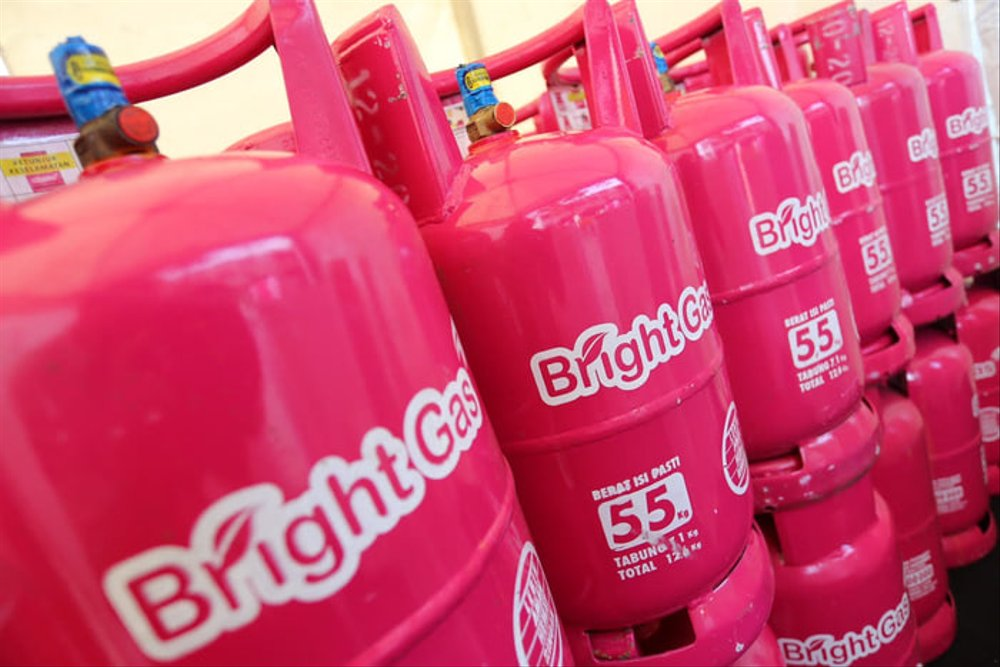bright_gas: (1, 2, 564, 667), (333, 7, 744, 625), (543, 21, 881, 498), (782, 11, 905, 338), (851, 19, 961, 315), (866, 386, 956, 666), (761, 505, 909, 667), (906, 325, 999, 568), (920, 1, 1000, 256), (949, 281, 1000, 491)
